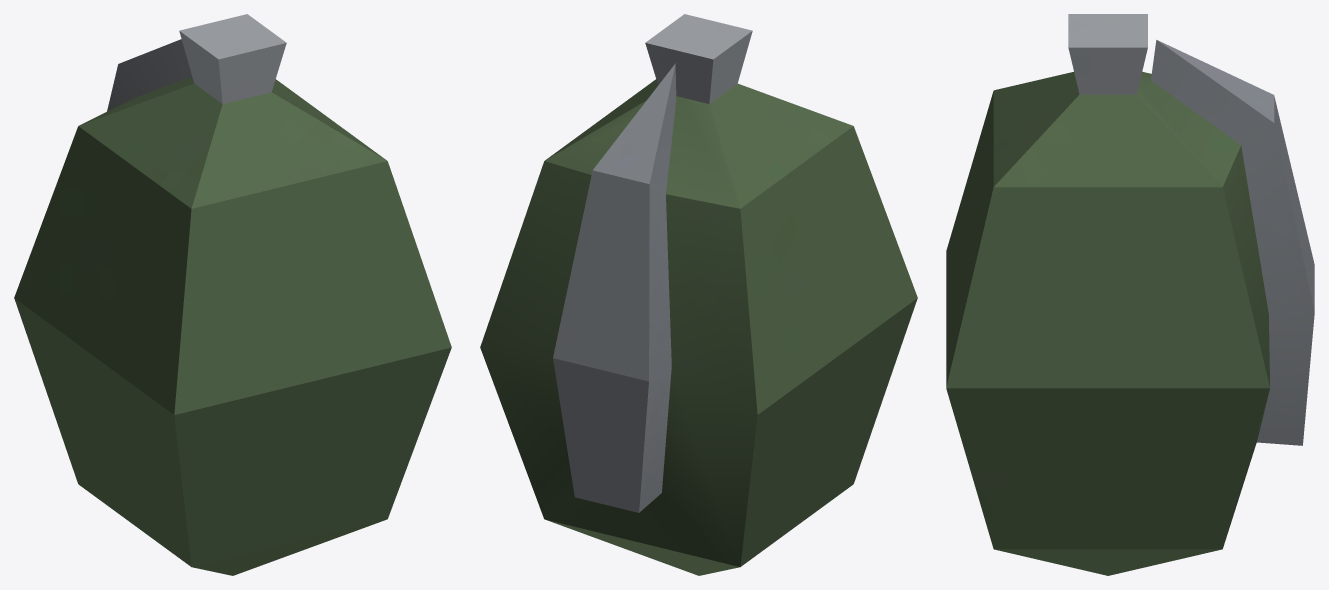
Rendered from GRANADA.fbx.
The picture shows the model from 3 angles, left to right: view 1: azimuth 30°, elevation 25°; view 2: azimuth 150°, elevation 25°; view 3: azimuth 270°, elevation 25°; orthographic projection.
Visible parts, largest first — view 1: GRANADA1; view 2: GRANADA1; view 3: GRANADA1.
Part boxes in pixels (x1,y1,x2,y2): GRANADA1: (14,14,451,575); GRANADA1: (480,14,917,575); GRANADA1: (946,14,1314,575).
Size of the model in its own units: 0.0733 by 0.1361 by 0.0834.
1 material, 1 textured.
